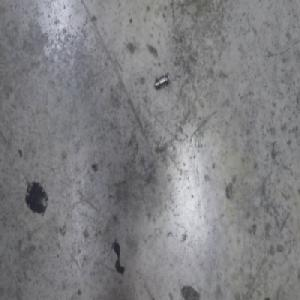Bolt: (154, 71, 170, 90)
